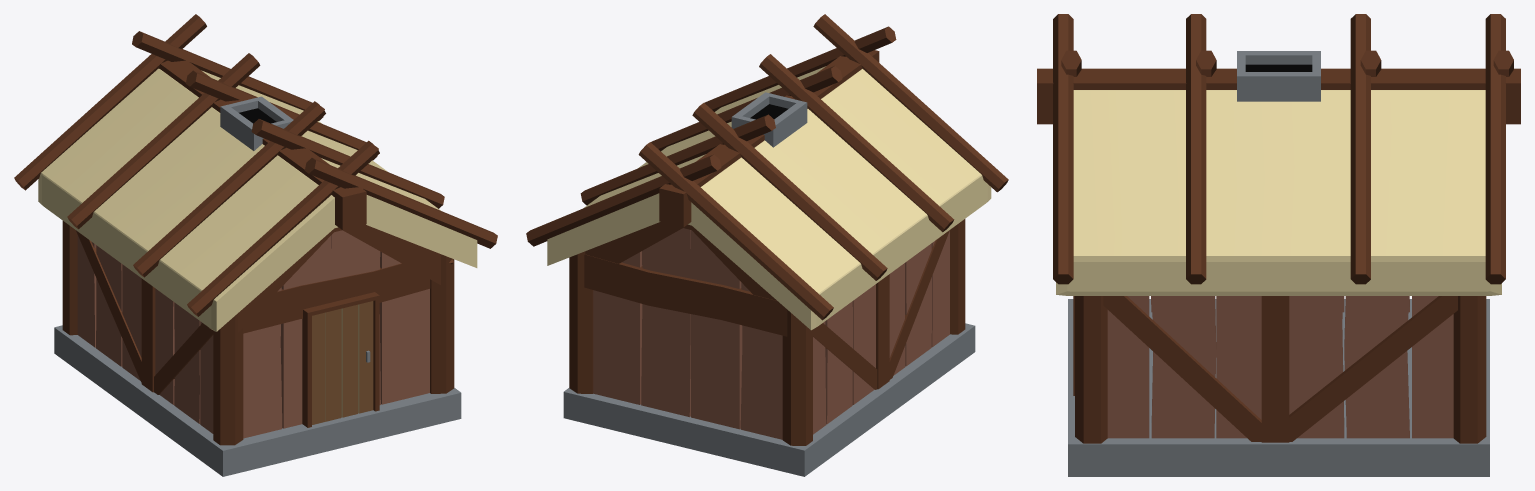
File: Low Poly Medival House.fbx
3 views of the same model, side by side, from view 1: azimuth 30°, elevation 25°; view 2: azimuth 150°, elevation 25°; view 3: azimuth 270°, elevation 25° (orthographic). The views are drawn at different scales.
Visible parts, largest first — view 1: Low Poly Medival House; view 2: Low Poly Medival House; view 3: Low Poly Medival House.
Part boxes in pixels (x1,y1,x2,y2): Low Poly Medival House: (14, 14, 497, 476); Low Poly Medival House: (526, 14, 1008, 476); Low Poly Medival House: (1037, 14, 1520, 476).
Size of the model in its own units: 3.37 by 3.72 by 3.16.
